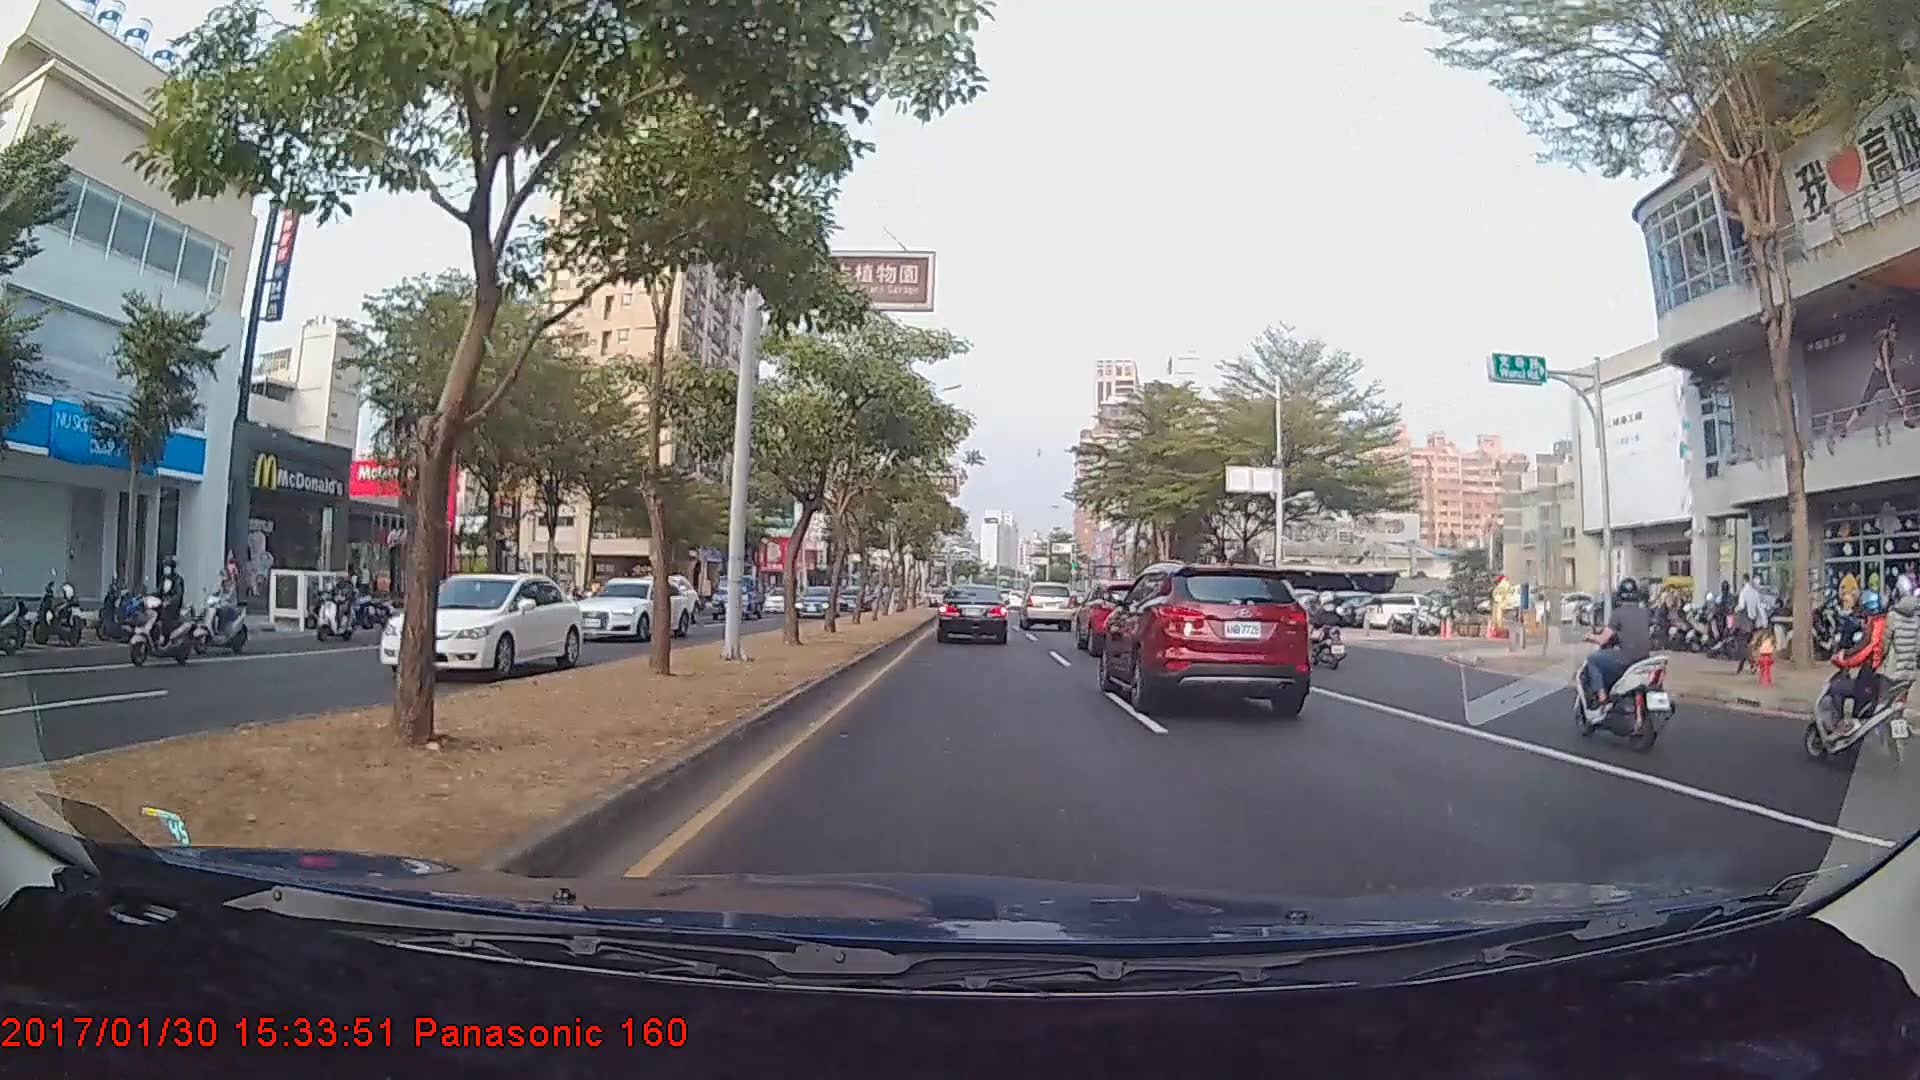pedestrian: (1732, 568, 1766, 671)
rider: (1802, 577, 1920, 775), (1562, 571, 1682, 751), (122, 550, 204, 672), (187, 560, 256, 653), (314, 566, 373, 646), (1300, 586, 1351, 667)
vehicle: (1097, 561, 1312, 719), (376, 570, 586, 682), (557, 576, 688, 640), (1072, 581, 1165, 654), (936, 581, 1009, 644), (1018, 581, 1078, 631), (710, 570, 764, 618), (792, 587, 837, 618)
